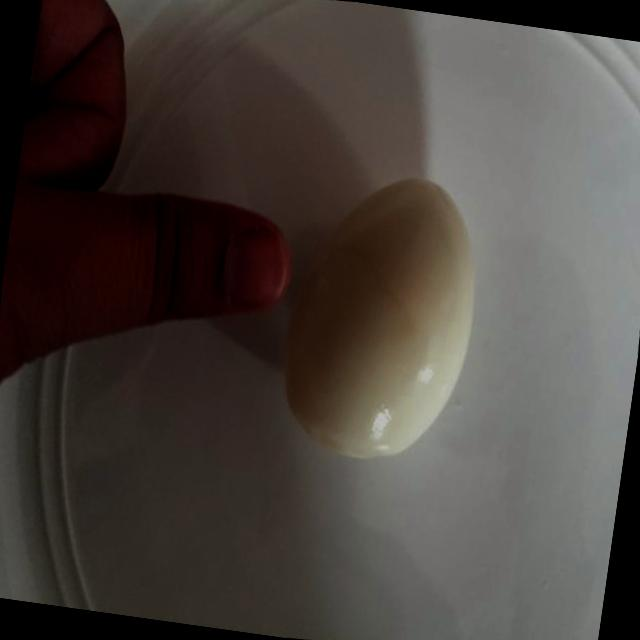Egg: (258, 152, 510, 486)
Finger: (110, 172, 310, 350)
